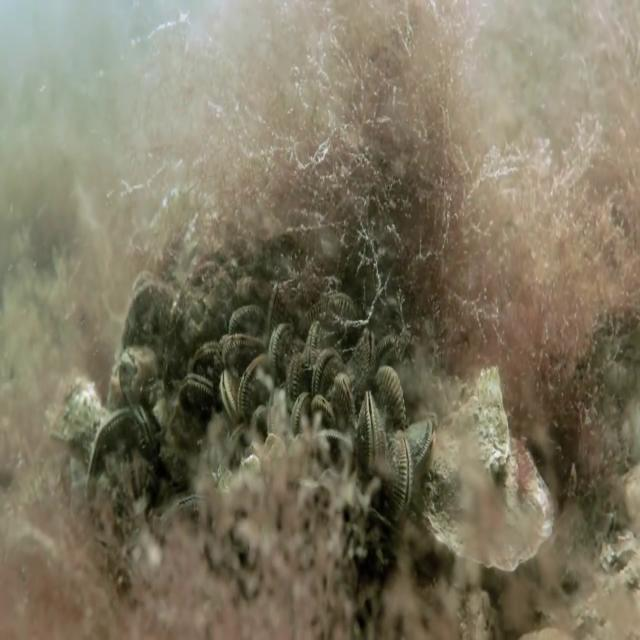Oyster-Closed: (84, 400, 134, 504), (298, 286, 369, 332), (354, 379, 387, 477), (386, 425, 416, 528), (403, 402, 442, 468), (374, 365, 409, 438), (267, 314, 299, 385), (237, 354, 269, 424), (306, 338, 344, 396), (176, 363, 216, 418), (347, 323, 381, 381), (223, 300, 269, 341), (129, 402, 159, 459), (219, 330, 265, 364), (332, 366, 358, 420), (218, 364, 239, 427), (287, 347, 308, 407), (375, 328, 401, 376), (284, 389, 313, 432), (189, 334, 219, 369), (307, 390, 335, 424), (304, 321, 321, 361)
